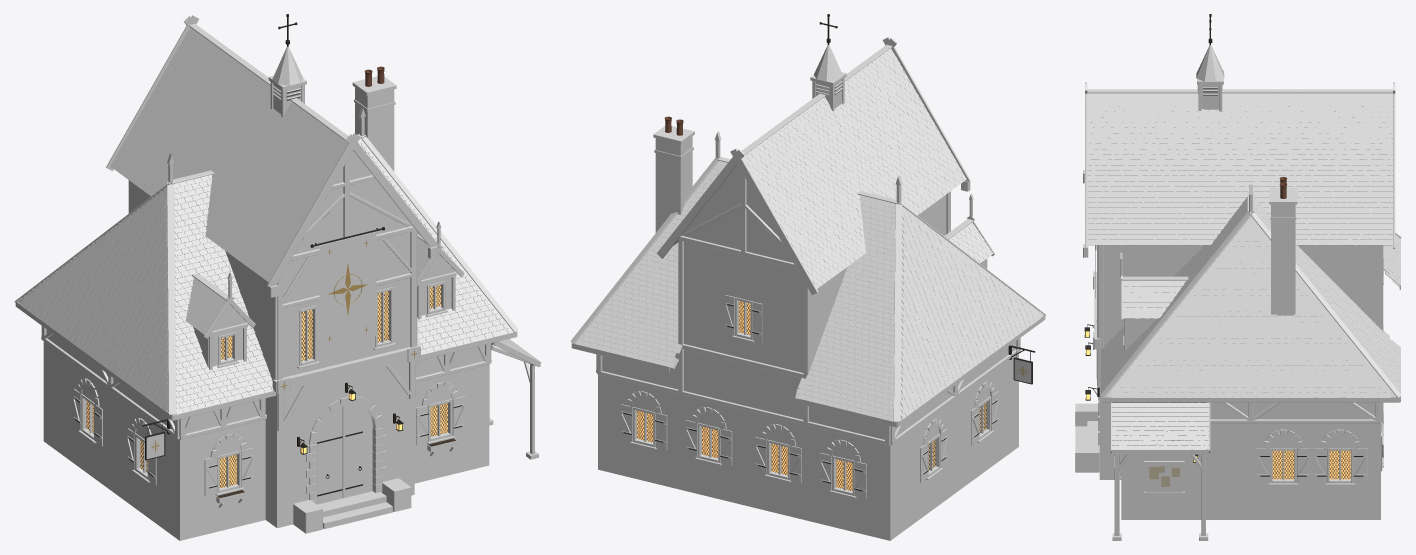
The model's file is SilverbrookAdventurersGuild.glb.
The picture shows the model from 3 angles, left to right: view 1: azimuth 30°, elevation 25°; view 2: azimuth 150°, elevation 25°; view 3: azimuth 270°, elevation 25°; orthographic projection. The views are drawn at different scales.
Parts seen in each view (by area): view 1: SM_SBAdventurersGuild_Roof, SM_SBAdventurersGuild_Masonry, SM_SBAdventurersGuild_Timber, SM_SBAdventurersGuild_Plaster, SM_SBAdventurersGuild_Details, SM_SBAdventurersGuild_Details_Door1; view 2: SM_SBAdventurersGuild_Roof, SM_SBAdventurersGuild_Masonry, SM_SBAdventurersGuild_Plaster, SM_SBAdventurersGuild_Timber, SM_SBAdventurersGuild_Details; view 3: SM_SBAdventurersGuild_Roof, SM_SBAdventurersGuild_Masonry, SM_SBAdventurersGuild_Timber, SM_SBAdventurersGuild_Plaster, SM_SBAdventurersGuild_Details.
Part boxes in pixels (x1=…): SM_SBAdventurersGuild_Roof: x1=14, y1=23, x2=539, y2=415; SM_SBAdventurersGuild_Masonry: x1=43, y1=76, x2=538, y2=540; SM_SBAdventurersGuild_Timber: x1=15, y1=15, x2=541, y2=507; SM_SBAdventurersGuild_Plaster: x1=46, y1=150, x2=484, y2=433; SM_SBAdventurersGuild_Details: x1=73, y1=14, x2=465, y2=498; SM_SBAdventurersGuild_Details_Door1: x1=317, y1=404, x2=372, y2=504; SM_SBAdventurersGuild_Roof: x1=570, y1=44, x2=1046, y2=422; SM_SBAdventurersGuild_Masonry: x1=598, y1=125, x2=1018, y2=540; SM_SBAdventurersGuild_Plaster: x1=602, y1=164, x2=1016, y2=439; SM_SBAdventurersGuild_Timber: x1=571, y1=37, x2=1045, y2=498; SM_SBAdventurersGuild_Details: x1=620, y1=14, x2=1035, y2=498; SM_SBAdventurersGuild_Roof: x1=1087, y1=45, x2=1401, y2=449; SM_SBAdventurersGuild_Masonry: x1=1075, y1=188, x2=1382, y2=540; SM_SBAdventurersGuild_Timber: x1=1083, y1=70, x2=1400, y2=535; SM_SBAdventurersGuild_Plaster: x1=1104, y1=245, x2=1380, y2=419; SM_SBAdventurersGuild_Details: x1=1084, y1=14, x2=1383, y2=486.
Size of the model in its own units: 15.61 by 17.68 by 12.07.
